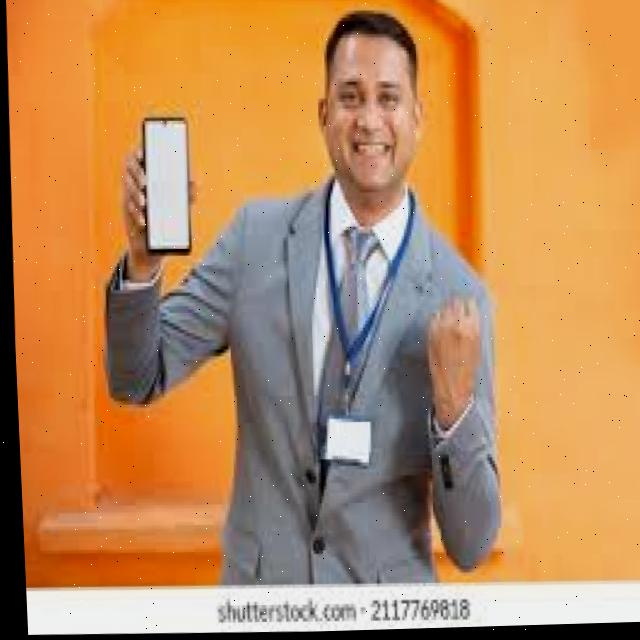id_card: (309, 189, 390, 470)
